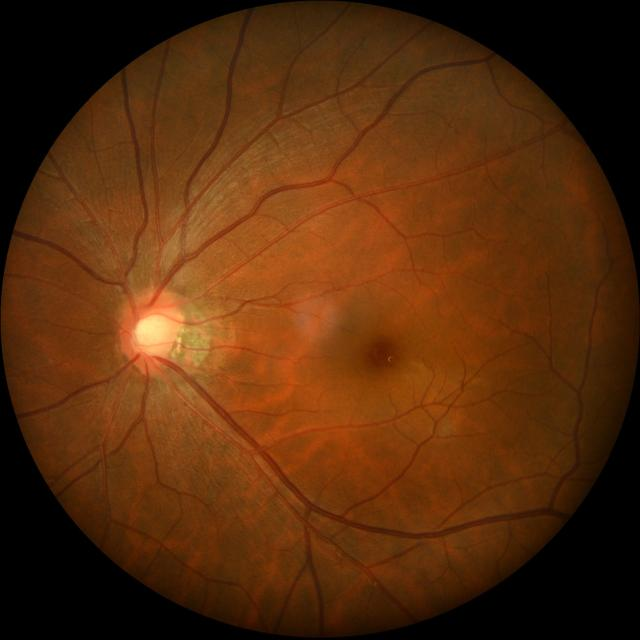OC: (132, 310, 174, 358)
OD: (119, 290, 181, 371)
